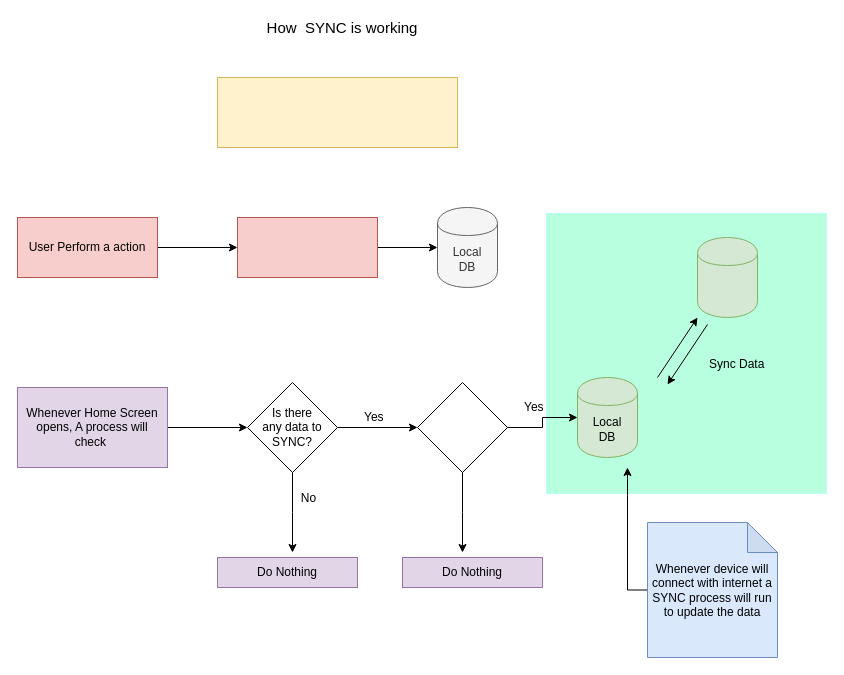
This 844x675 diagram has some shape labels left out. The box of each missing label's shape, as (x1, y1, x2, y2) in pixels:
As soon as your will login user will redirected to Home Screen: (216, 76, 458, 148)
Data will stored in Local DB: (236, 216, 378, 278)
Device have Internet?: (416, 382, 508, 472)
Server DB: (696, 236, 758, 318)
